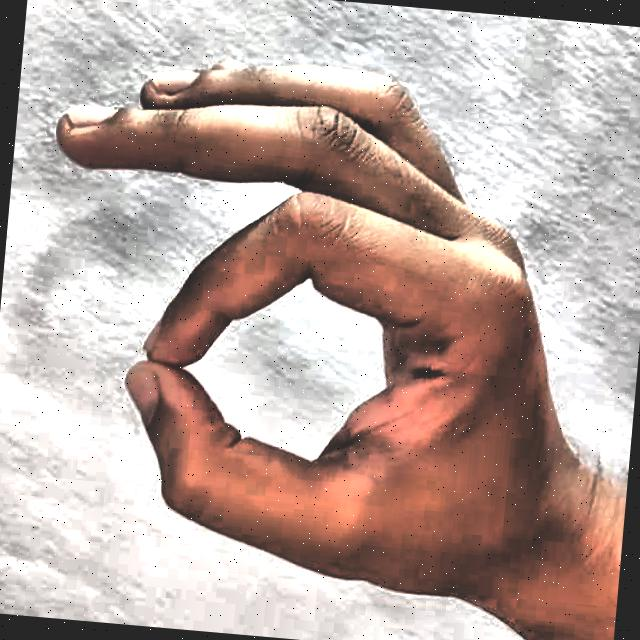Yo: (1, 14, 610, 640)
